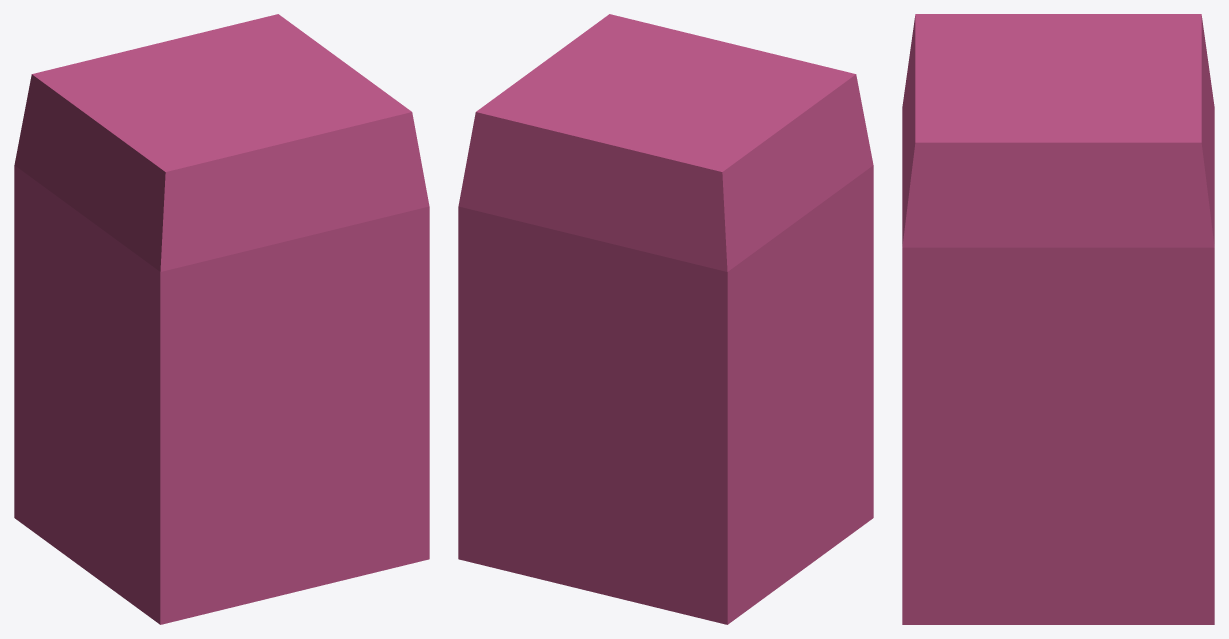
The picture shows the model from 3 angles, left to right: view 1: azimuth 30°, elevation 25°; view 2: azimuth 150°, elevation 25°; view 3: azimuth 270°, elevation 25°; orthographic projection. The views are drawn at different scales.
Visible parts, largest first — view 1: b02:headusOBJexport; view 2: b02:headusOBJexport; view 3: b02:headusOBJexport.
Part boxes in pixels (x1,y1,x2,y2): b02:headusOBJexport: (14,14,429,624); b02:headusOBJexport: (458,14,873,624); b02:headusOBJexport: (902,14,1214,624).
Size of the model in its own units: 3.42 by 5.42 by 3.22.
